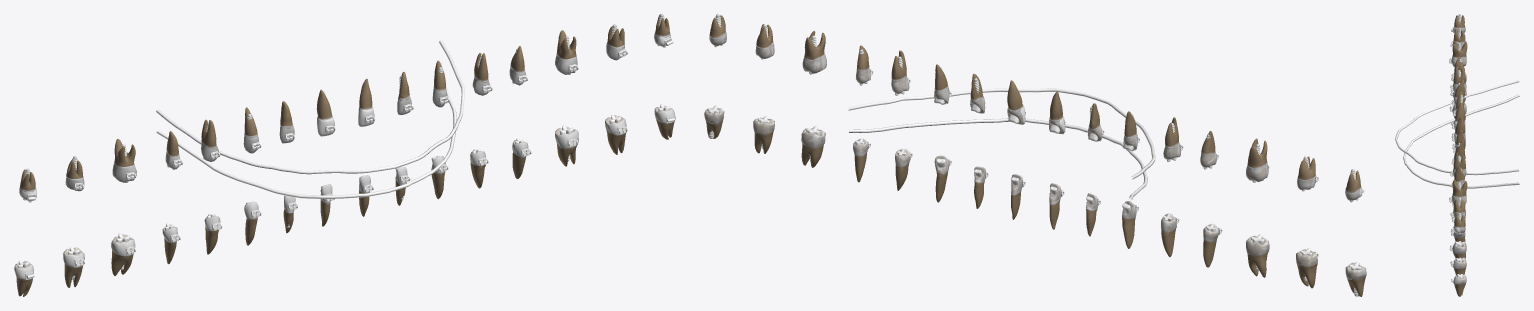
3 views of the same model, side by side, from view 1: azimuth 30°, elevation 25°; view 2: azimuth 150°, elevation 25°; view 3: azimuth 270°, elevation 25° (orthographic). The views are drawn at different scales.
Visible parts, largest first — view 1: TopTeethWire, BottomTeethWire; view 2: TopTeethWire, BottomTeethWire; view 3: BottomTeethWire, TopTeethWire, Tooth_26_CrownBase, Tooth_16_Base, Tooth_26_Base, Tooth_24_Base, Tooth_16_RootCanal, Tooth_37_Base, Tooth_14_CrownBase, Tooth_24_CrownBase, Tooth_27_Base, Tooth_28_Base.
Boxes of the visible parts, x1=… form: TopTeethWire: x1=156, y1=40, x2=464, y2=174; BottomTeethWire: x1=156, y1=61, x2=456, y2=198; TopTeethWire: x1=848, y1=88, x2=1155, y2=179; BottomTeethWire: x1=848, y1=118, x2=1147, y2=199; BottomTeethWire: x1=1403, y1=94, x2=1519, y2=188; TopTeethWire: x1=1395, y1=80, x2=1519, y2=175; Tooth_26_CrownBase: x1=1453, y1=180, x2=1467, y2=196; Tooth_16_Base: x1=1452, y1=41, x2=1467, y2=66; Tooth_26_Base: x1=1452, y1=180, x2=1466, y2=204; Tooth_24_Base: x1=1453, y1=153, x2=1466, y2=174; Tooth_16_RootCanal: x1=1452, y1=41, x2=1467, y2=64; Tooth_37_Base: x1=1454, y1=258, x2=1466, y2=274; Tooth_14_CrownBase: x1=1453, y1=67, x2=1465, y2=83; Tooth_24_CrownBase: x1=1453, y1=153, x2=1465, y2=168; Tooth_27_Base: x1=1453, y1=199, x2=1465, y2=212; Tooth_28_Base: x1=1454, y1=214, x2=1464, y2=232.
Bounding box in the file's own units: 0.1691 × 0.0341 × 0.0431.
